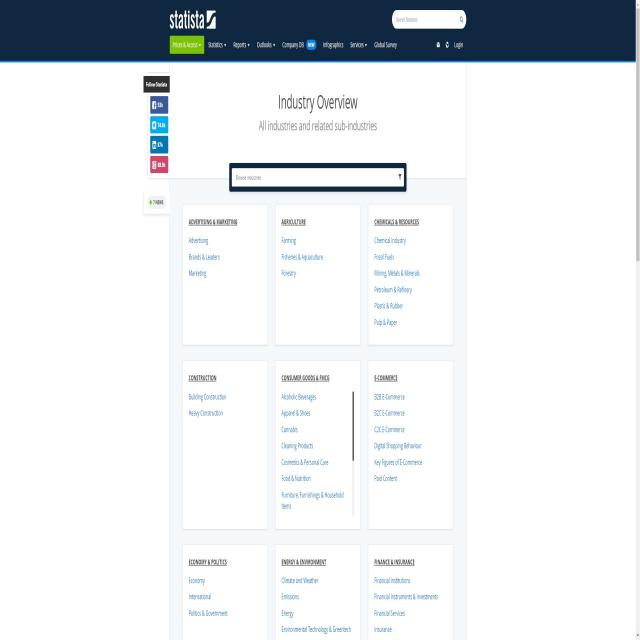menu-bar: (431, 32, 465, 58)
search: (230, 162, 406, 193), (392, 9, 467, 27)
side-panel: (139, 70, 173, 221)
tab-bar: (165, 34, 402, 62)
